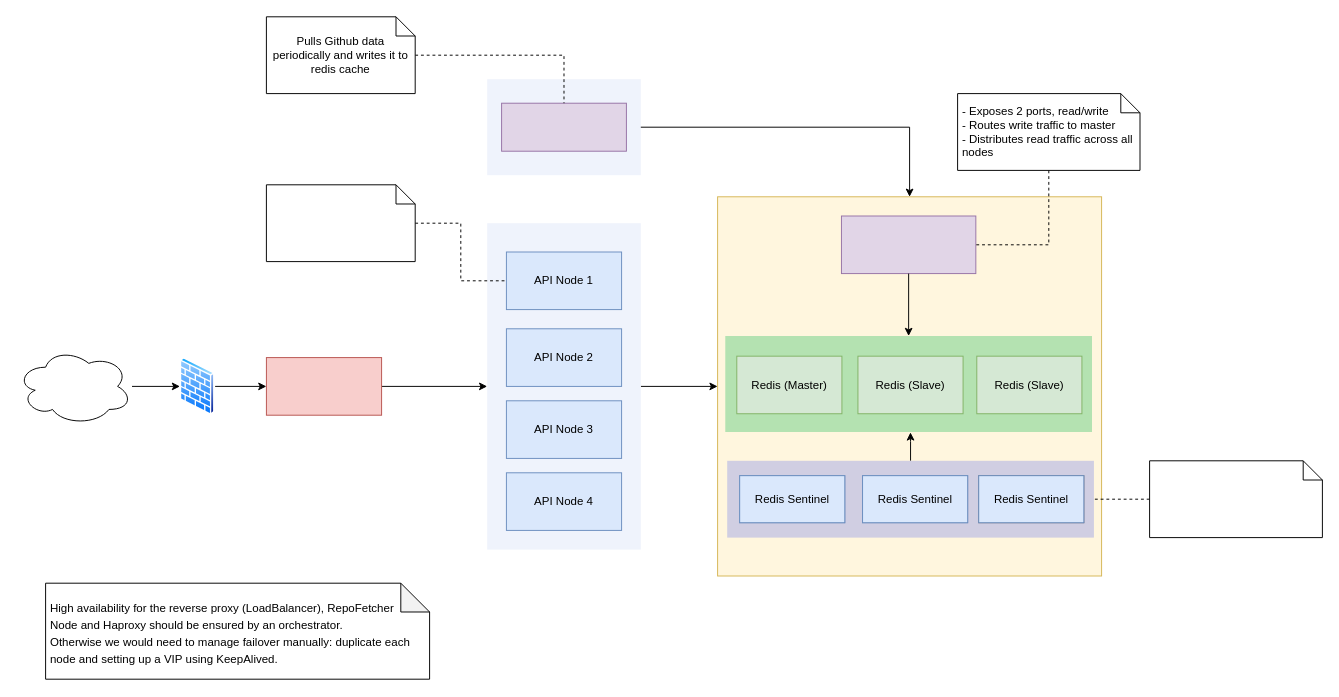
Image size: 1339x697. Some labels were removed from this diagram. Each missing label, with the box of its shape:
Exposes a Rest API to access repos and stats: (265, 184, 415, 262)
HAproxy: (840, 215, 976, 274)
Internet: (16, 347, 132, 425)
Loadbalancer: (265, 357, 382, 415)
Monitor and promote a redis slave to master in case of a failure: (1149, 460, 1322, 538)
Repo Fetcher Node: (501, 102, 626, 151)
